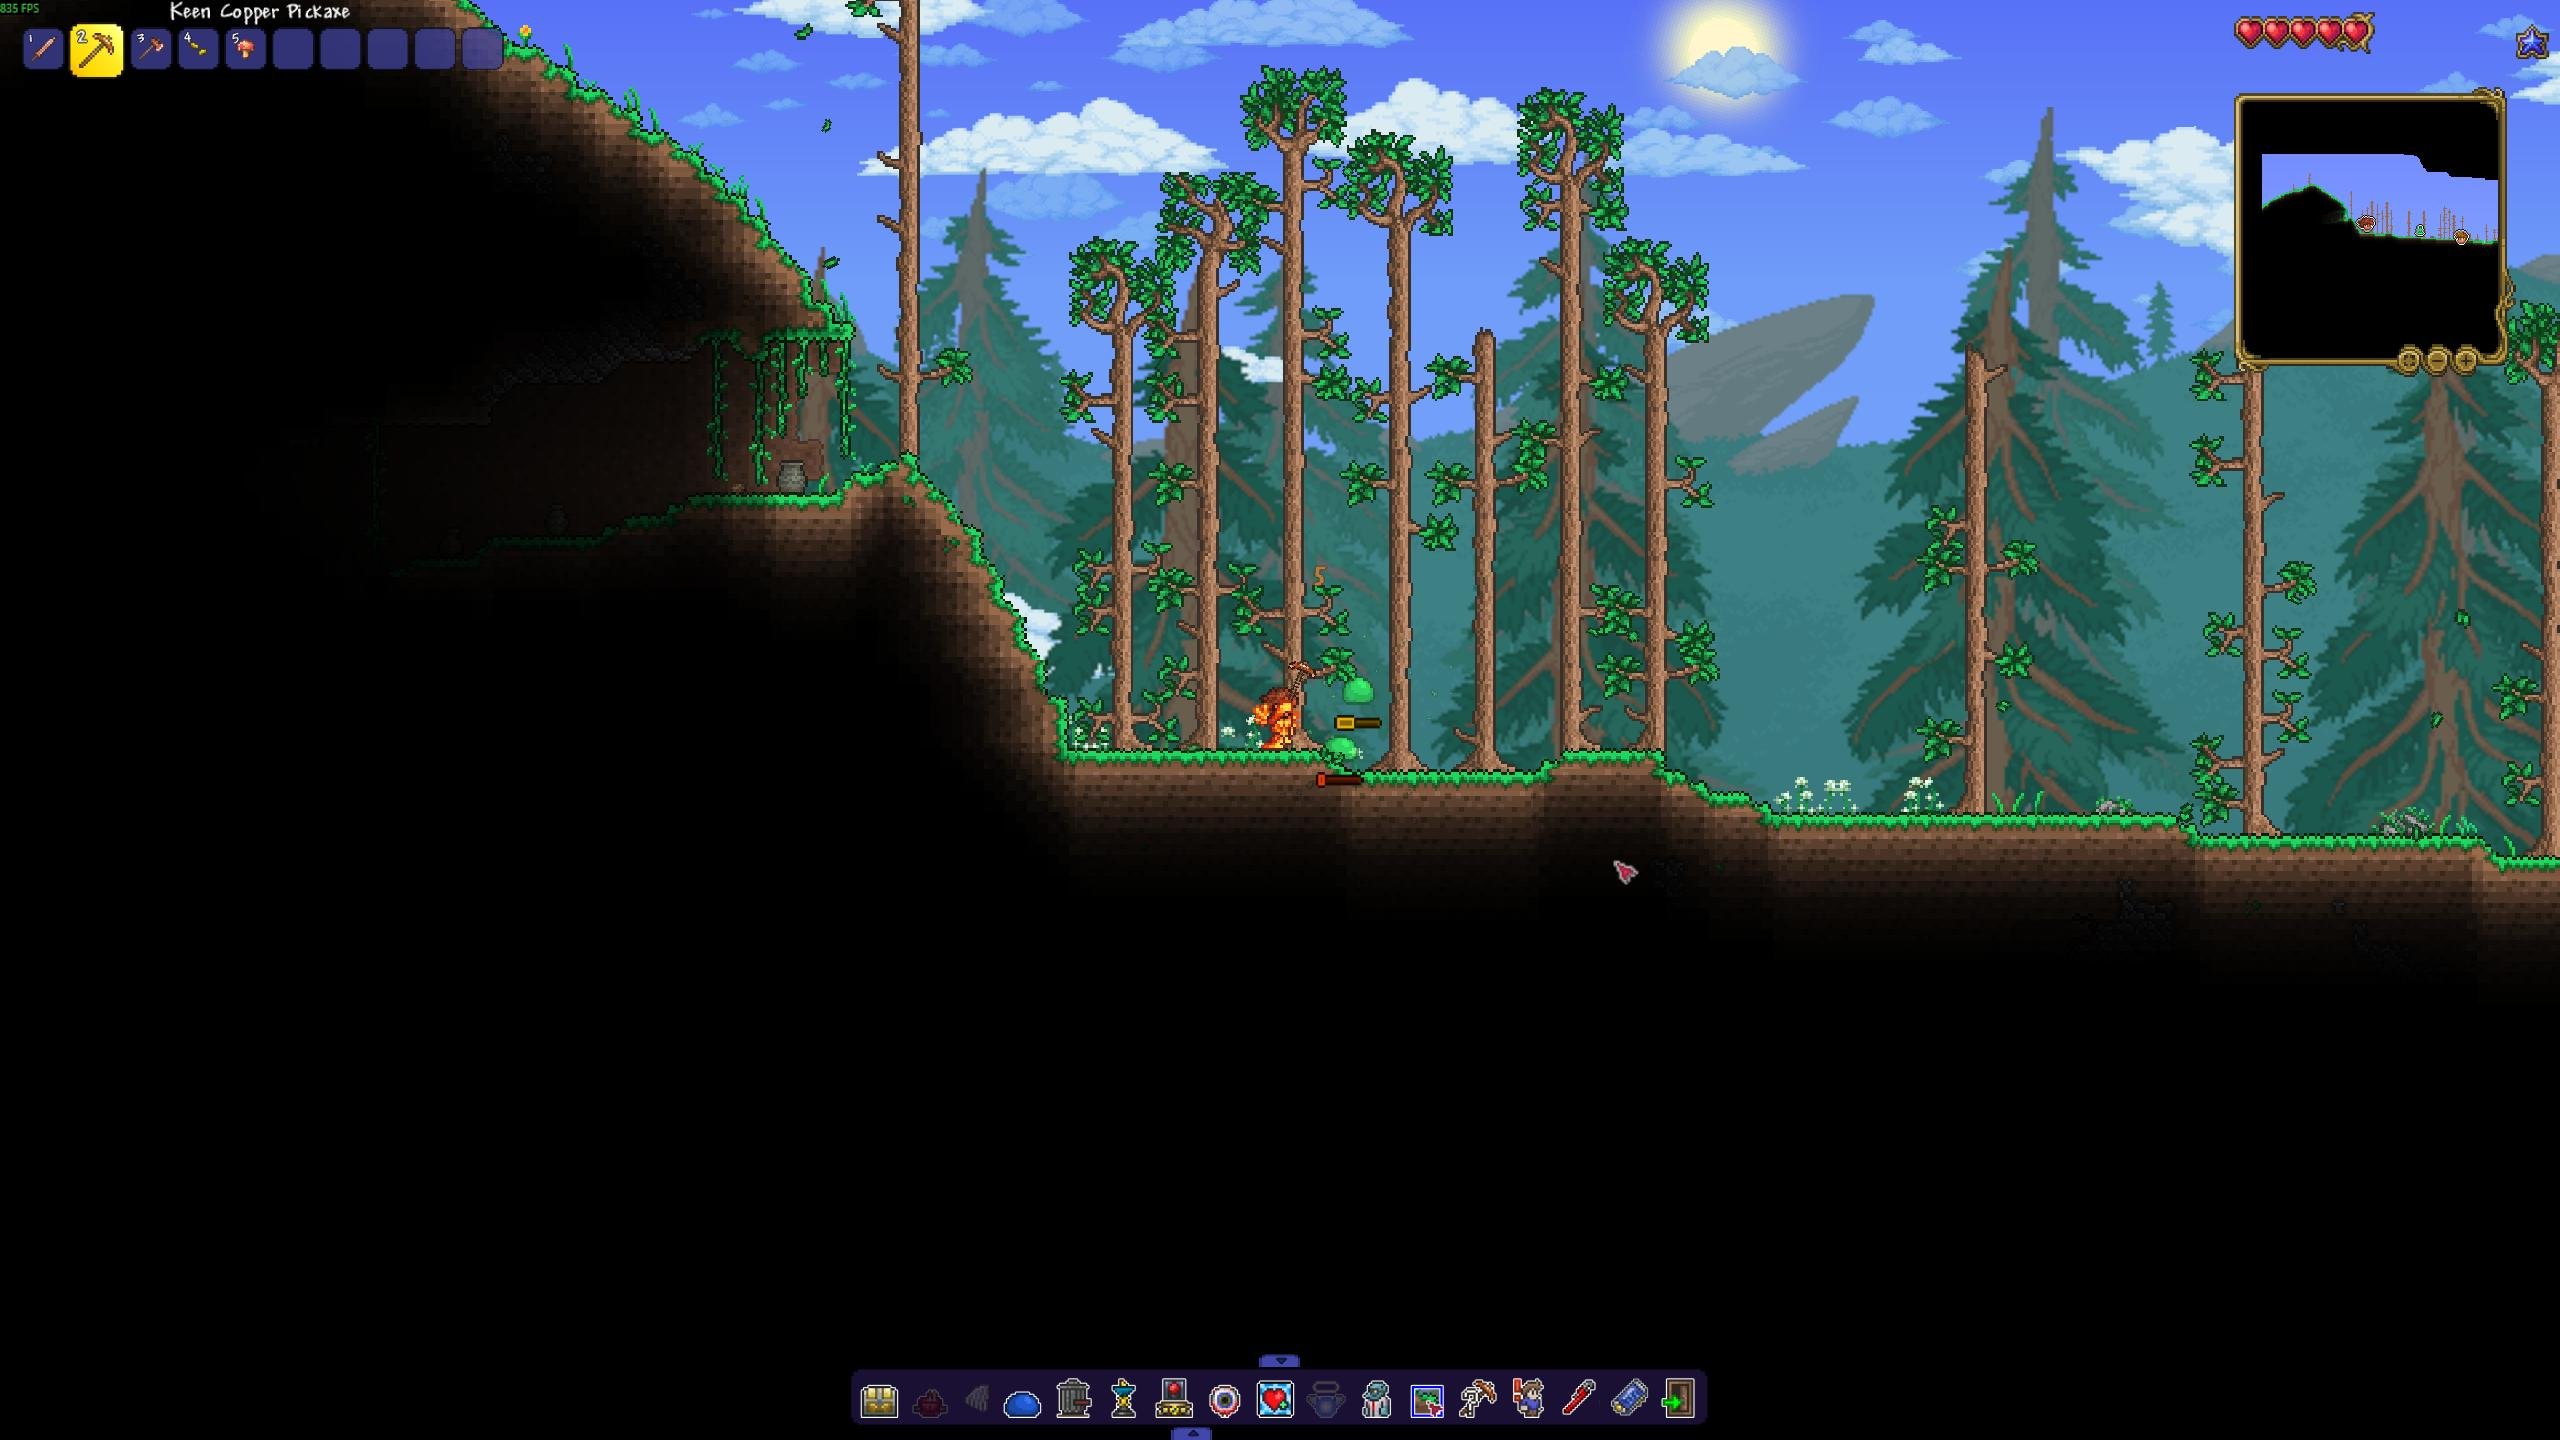Green Slime: (1320, 733, 1361, 765), (1338, 675, 1378, 707)
